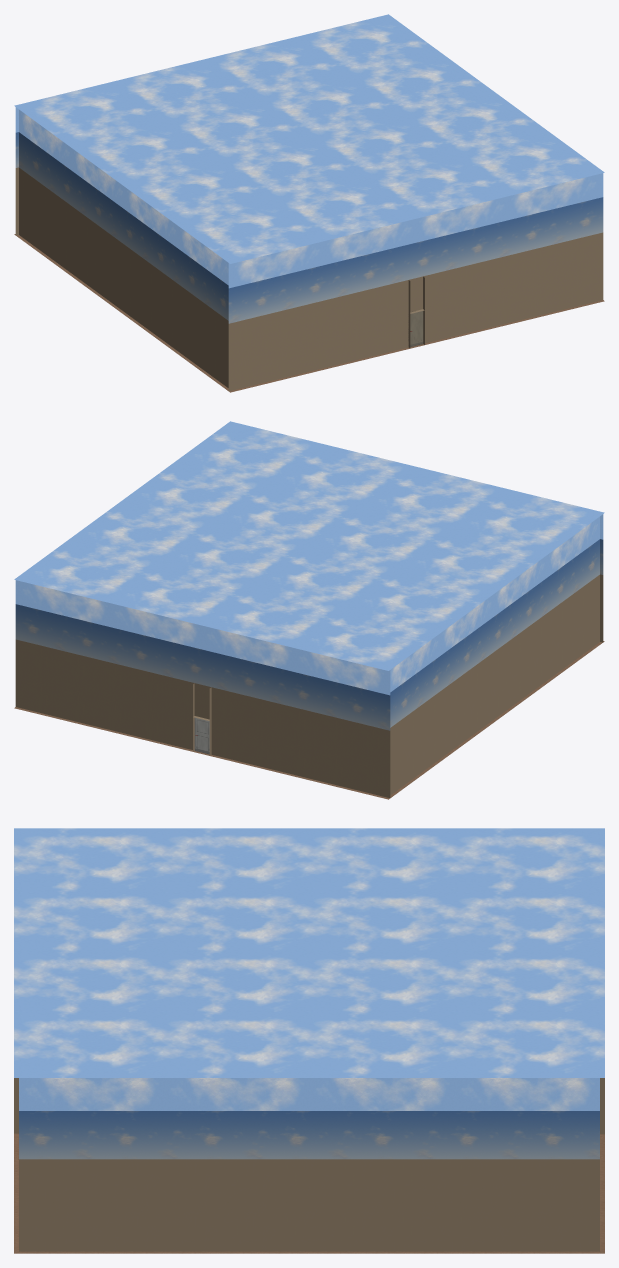
The picture shows the model from 3 angles, top to bottom: view 1: azimuth 30°, elevation 25°; view 2: azimuth 150°, elevation 25°; view 3: azimuth 270°, elevation 25°; orthographic projection. The views are drawn at different scales.
Parts seen in each view (by area): view 1: Sky_Glow, Wall_Plaster, Sky_Mural, Floor_Terrazzo; view 2: Sky_Glow, Wall_Plaster, Sky_Mural, Floor_Terrazzo, DoorLeaf_sky_hall_01; view 3: Sky_Glow, Wall_Plaster, Sky_Mural, Floor_Terrazzo.
Part boxes in pixels (left/top/right/bottom): Sky_Glow: left=14, top=14, right=604, bottom=288; Wall_Plaster: left=15, top=167, right=603, bottom=390; Sky_Mural: left=15, top=132, right=603, bottom=323; Floor_Terrazzo: left=14, top=234, right=604, bottom=392; Sky_Glow: left=14, top=421, right=604, bottom=695; Wall_Plaster: left=15, top=574, right=603, bottom=797; Sky_Mural: left=15, top=539, right=603, bottom=730; Floor_Terrazzo: left=14, top=641, right=604, bottom=799; DoorLeaf_sky_hall_01: left=195, top=717, right=209, bottom=754; Sky_Glow: left=14, top=828, right=604, bottom=1110; Wall_Plaster: left=14, top=1078, right=604, bottom=1251; Sky_Mural: left=19, top=1111, right=599, bottom=1159; Floor_Terrazzo: left=14, top=1133, right=604, bottom=1253.
Bounding box in the file's own units: 24.4 × 9 × 24.4.
20 materials, 15 textured.
